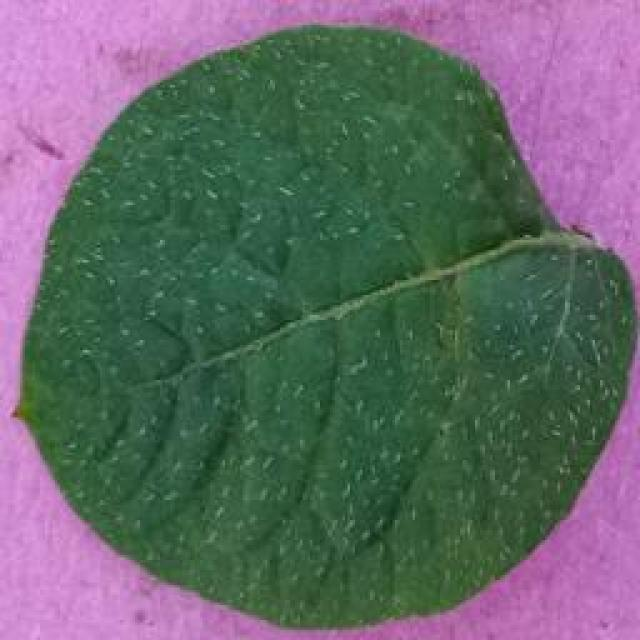Potato_Healthy: (13, 23, 625, 626)
